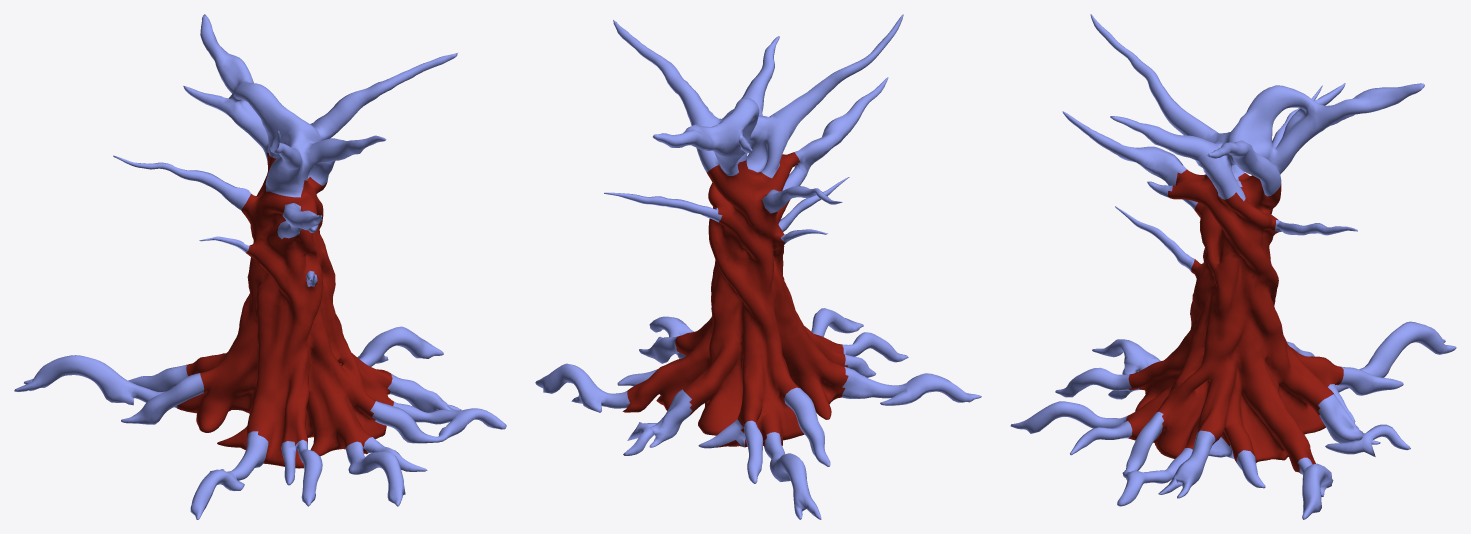
The model's file is Seonang_Tree2.fbx.
The picture shows the model from 3 angles, left to right: view 1: azimuth 30°, elevation 25°; view 2: azimuth 150°, elevation 25°; view 3: azimuth 270°, elevation 25°; orthographic projection. The views are drawn at different scales.
Visible parts, largest first — view 1: Tree_Low; view 2: Tree_Low; view 3: Tree_Low.
Part boxes in pixels (bbox=[...]): Tree_Low: bbox=[14, 14, 506, 519]; Tree_Low: bbox=[535, 14, 981, 519]; Tree_Low: bbox=[1010, 14, 1456, 519].
Size of the model in its own units: 94.62 by 92.95 by 99.72.
